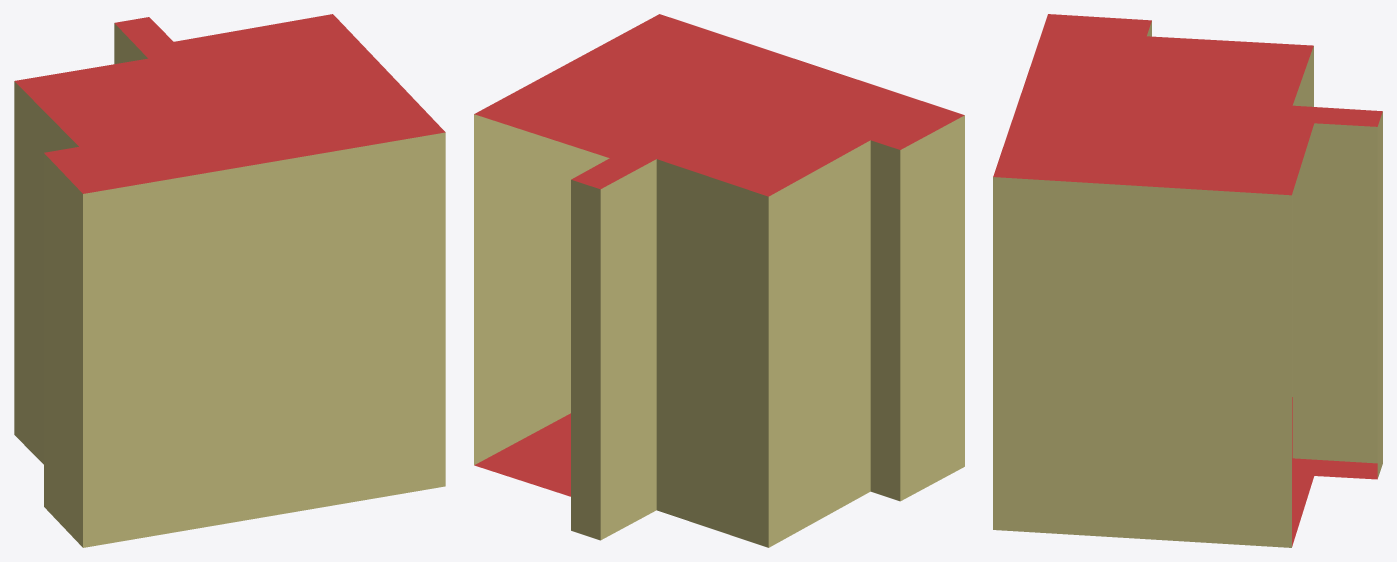
3 views of the same model, side by side, from view 1: azimuth 30°, elevation 25°; view 2: azimuth 150°, elevation 25°; view 3: azimuth 270°, elevation 25° (orthographic).
Parts seen in each view (by area): view 1: group_4, group_3; view 2: group_4, group_3, group_5; view 3: group_4, group_3, group_5.
Part boxes in pixels (x1,y1,x2,y2): group_4: (14,23,445,547); group_3: (14,14,445,193); group_4: (474,114,964,547); group_3: (474,14,964,196); group_5: (474,413,570,496); group_4: (993,21,1382,547); group_3: (993,14,1382,195); group_5: (1292,397,1377,546).
Size of the model in its own units: 10.02 by 9.11 by 9.11.
